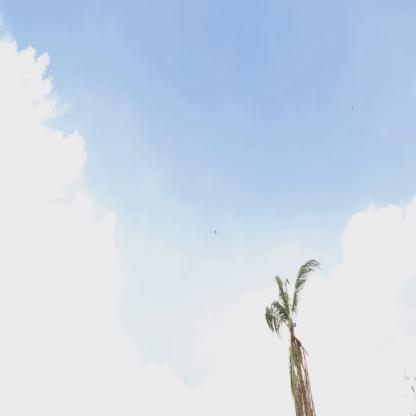drone: (213, 227, 220, 236)
